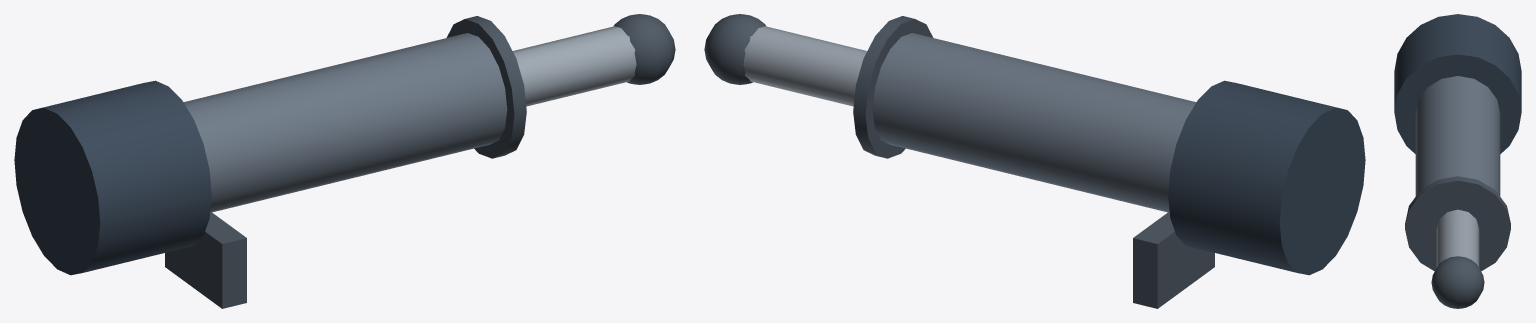
The model's file is electric-cylinder.glb.
The picture shows the model from 3 angles, left to right: view 1: azimuth 30°, elevation 25°; view 2: azimuth 150°, elevation 25°; view 3: azimuth 270°, elevation 25°; orthographic projection. The views are drawn at different scales.
Bounding box in the file's own units: 0.99 × 0.32 × 0.24.
